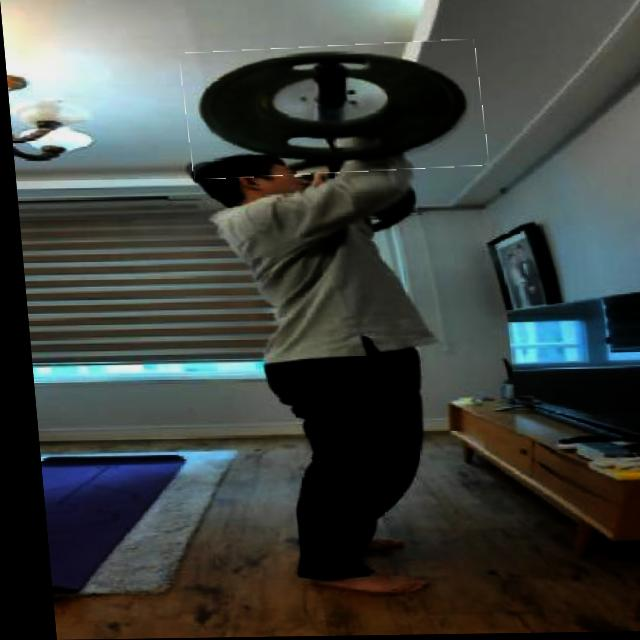barbell: (180, 44, 486, 179)
